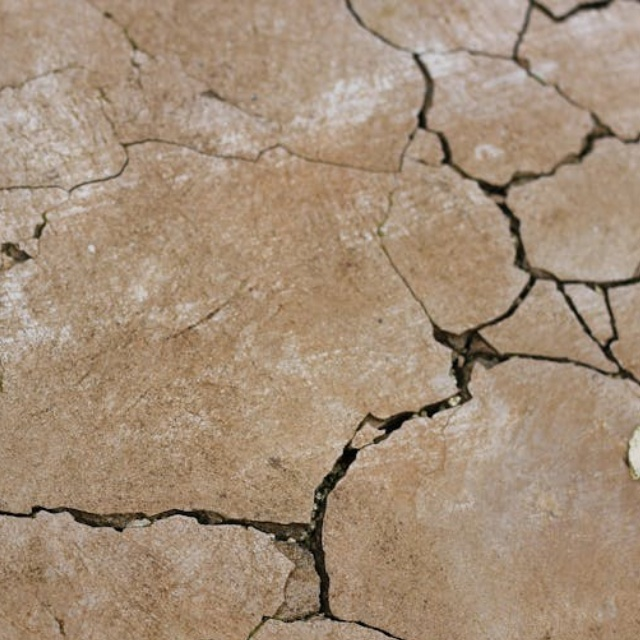细微裂纹: (0, 115, 475, 224)
网状裂隙: (293, 0, 640, 519)
